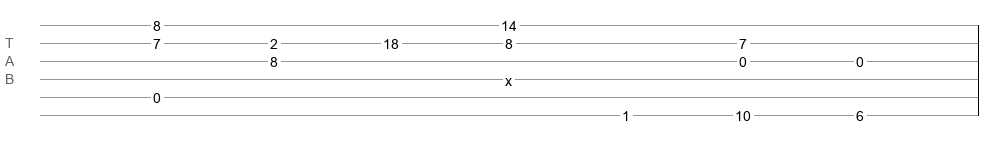0: (153, 90, 161, 100), (739, 54, 747, 64), (856, 54, 864, 64)
1: (622, 108, 630, 118)
10: (735, 108, 751, 118)
14: (501, 18, 517, 28)
18: (383, 36, 399, 46)
2: (270, 36, 278, 46)
6: (856, 108, 864, 118)
7: (153, 36, 161, 46), (739, 36, 747, 46)
8: (153, 18, 161, 28), (270, 54, 278, 64), (505, 36, 513, 46)
x: (505, 73, 512, 81)
